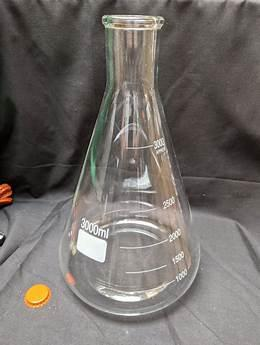Titrarion: (67, 13, 202, 314)
